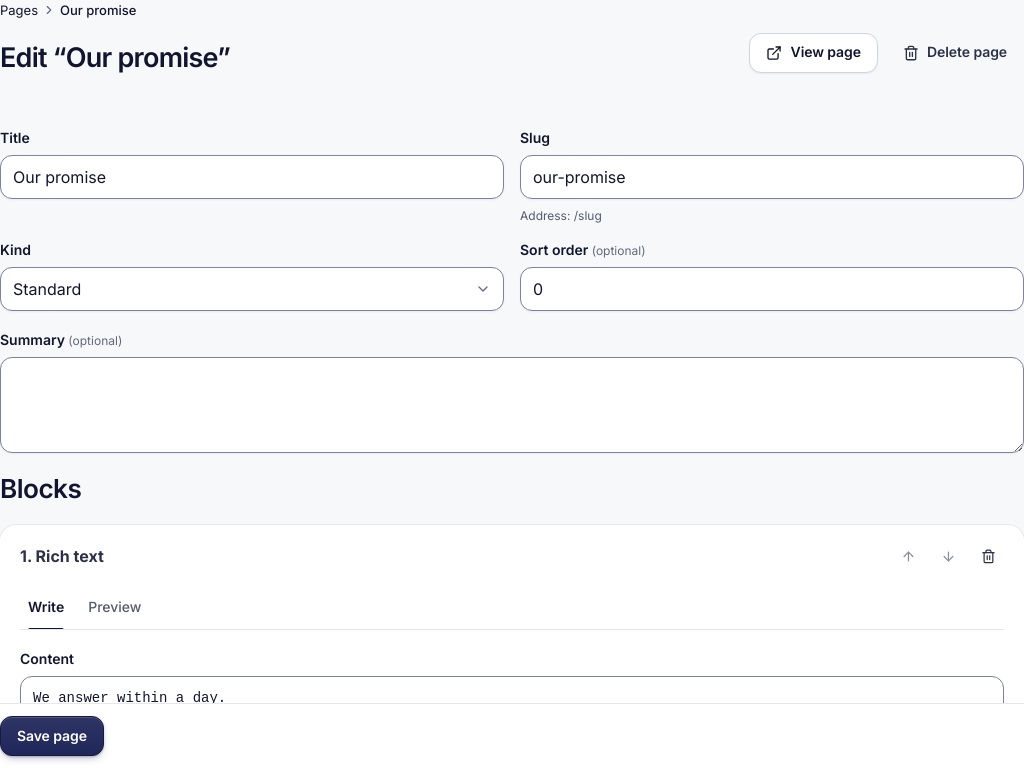
Scenario: Deleting CMS pages › deletes a page from the editor after confirming and returns to the list
The width and height of the screenshot is (1024, 768).
Click the button "Delete page". click: (955, 53)
box: [886,33,1023,73]
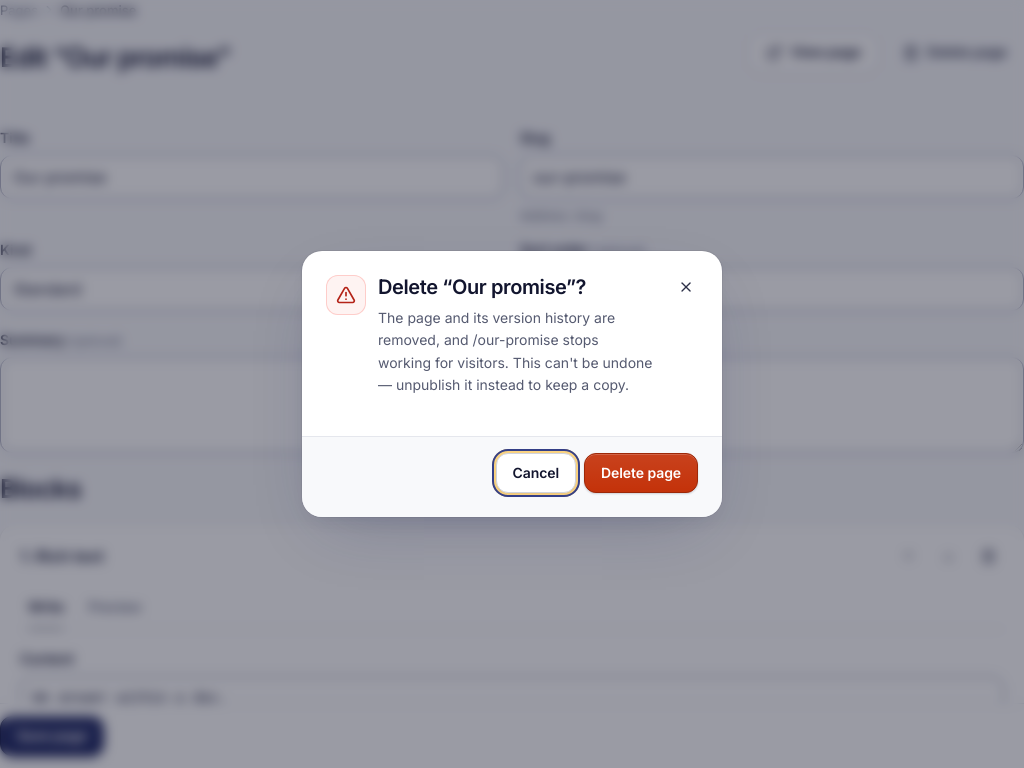
expect the dialog "Delete “Our promise”?" shows "/our-promise stops working for visitors": met, box [378,309,652,393]
Click the button "Delete page". click: (641, 473)
box: [584,453,698,493]
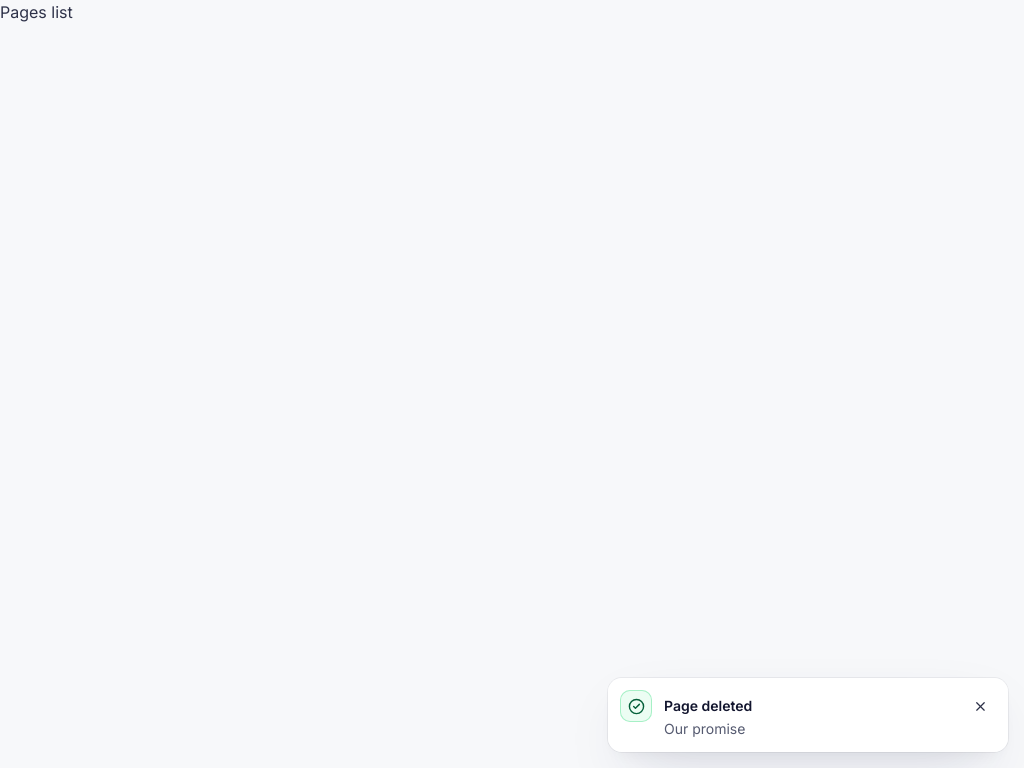
expect the text "Pages list" is shown: met, box [0,2,73,22]
